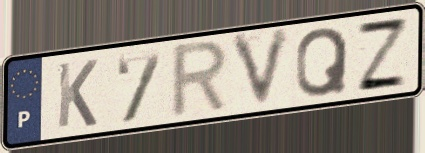7: (114, 47, 164, 126)
K: (54, 57, 100, 131)
Q: (294, 25, 351, 100)
R: (168, 37, 232, 122)
V: (227, 24, 295, 113)
Z: (354, 16, 412, 94)
